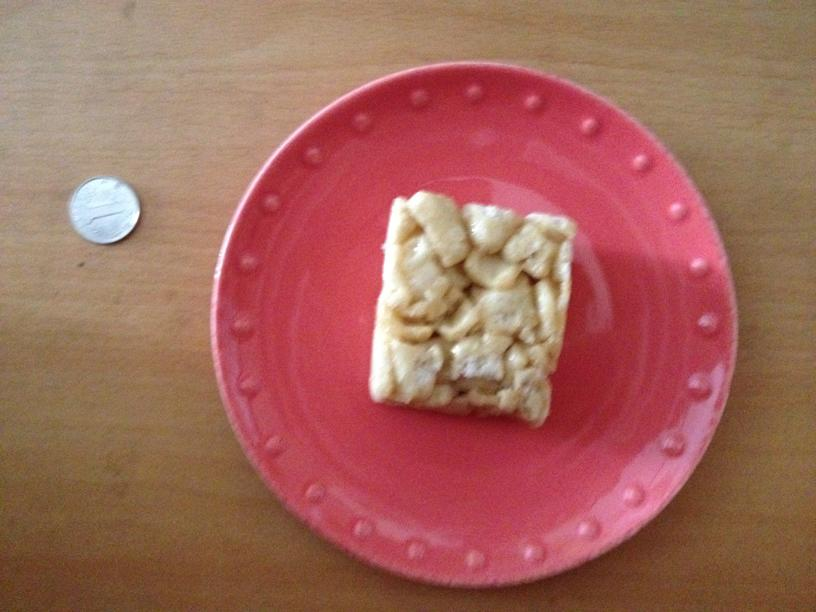coin: (67, 176, 144, 245)
sachima: (372, 191, 577, 424)
